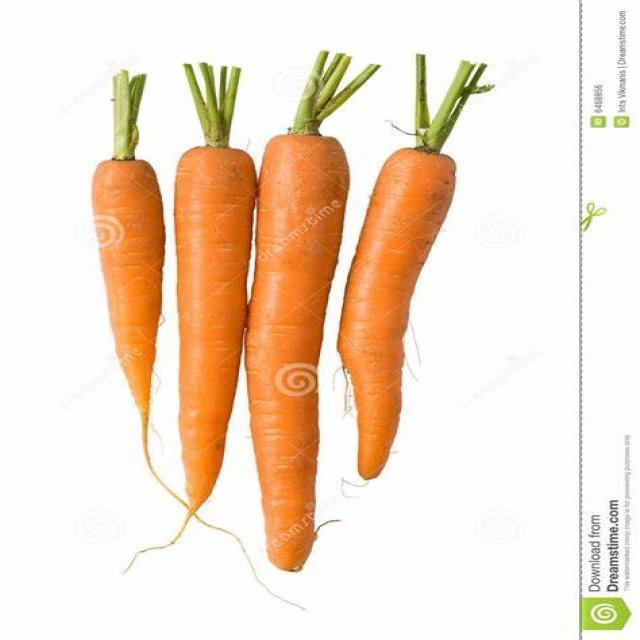Carrot: (352, 59, 486, 485), (250, 49, 332, 567), (169, 60, 257, 526), (90, 69, 173, 431)
